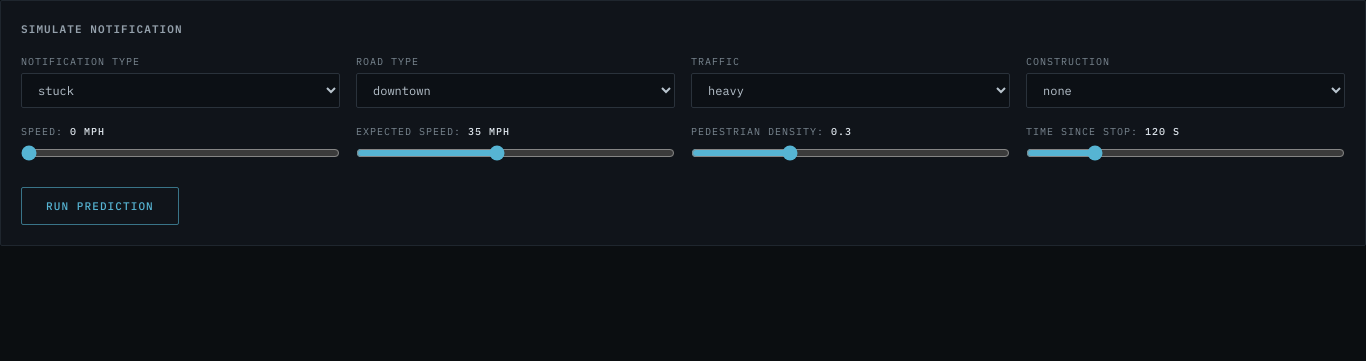
Scenario: SimulatePanel › shows result after prediction
This screenshot has width=1366, height=361.
Click the button "Run Prediction". click: (100, 206)
box: left=21, top=186, right=179, bottom=225
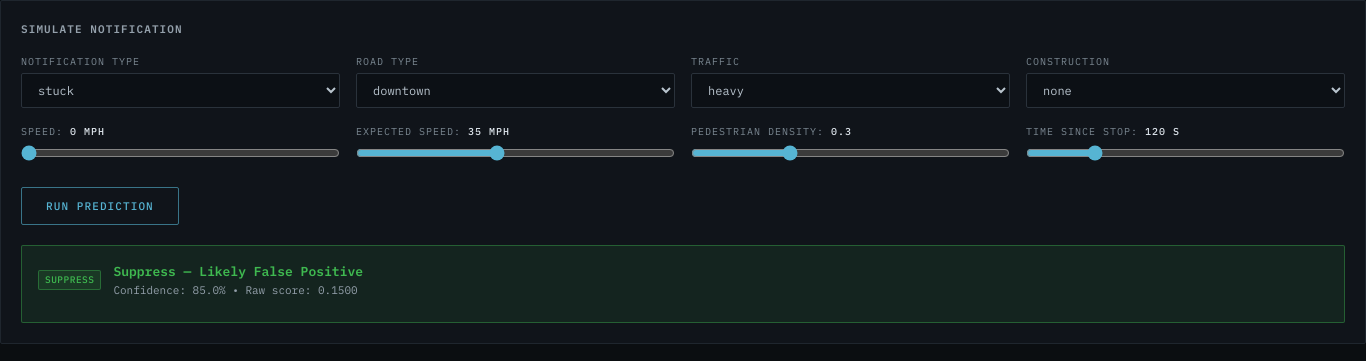
Check: the text "Suppress — Likely False Positive" is shown, box left=113, top=262, right=363, bottom=282
